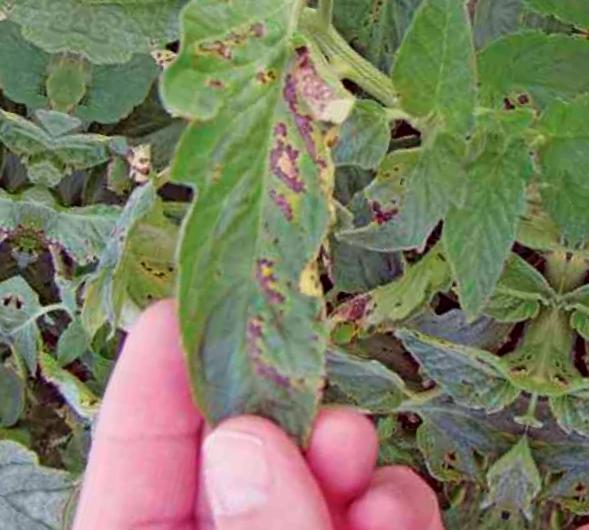Tomato Early blight leaf: (81, 0, 417, 440)
Tomato leaf: (382, 0, 502, 146), (433, 150, 532, 324), (524, 159, 589, 269)
